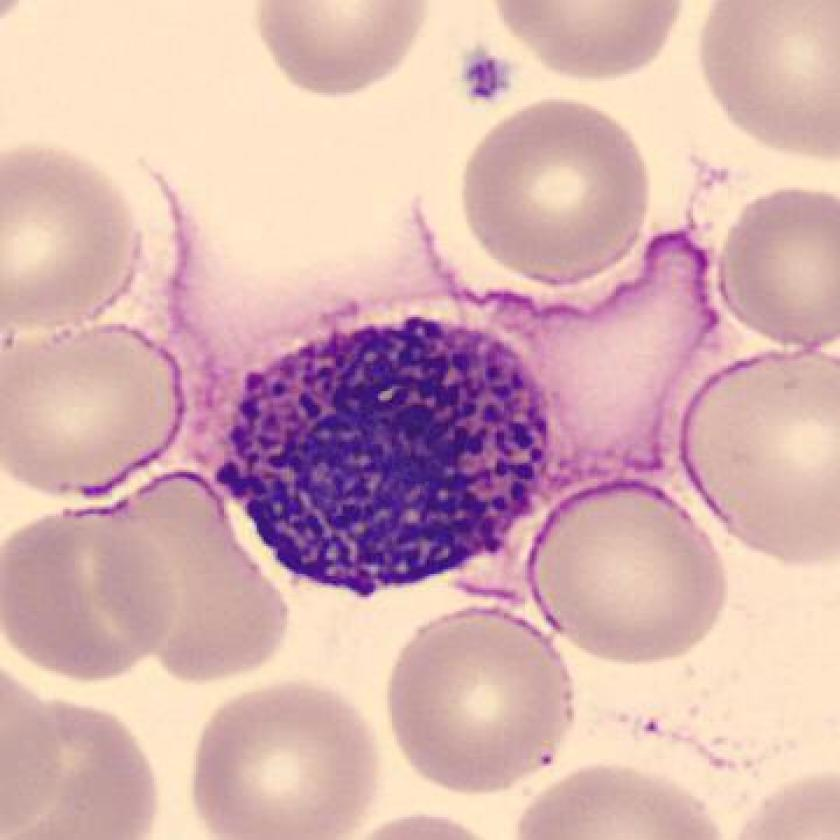basophil: (225, 302, 570, 605)
